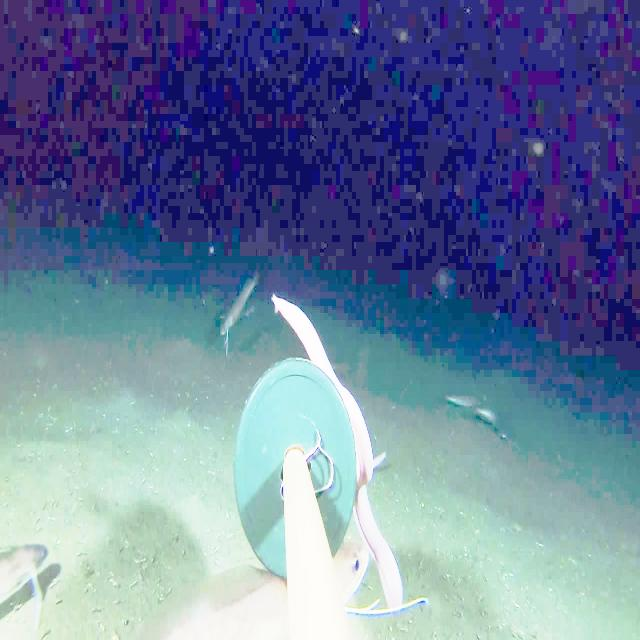eel: (264, 272, 415, 626)
fish: (123, 524, 378, 639), (0, 512, 71, 626), (441, 376, 520, 451), (214, 270, 262, 358)
pole: (234, 378, 355, 572)
